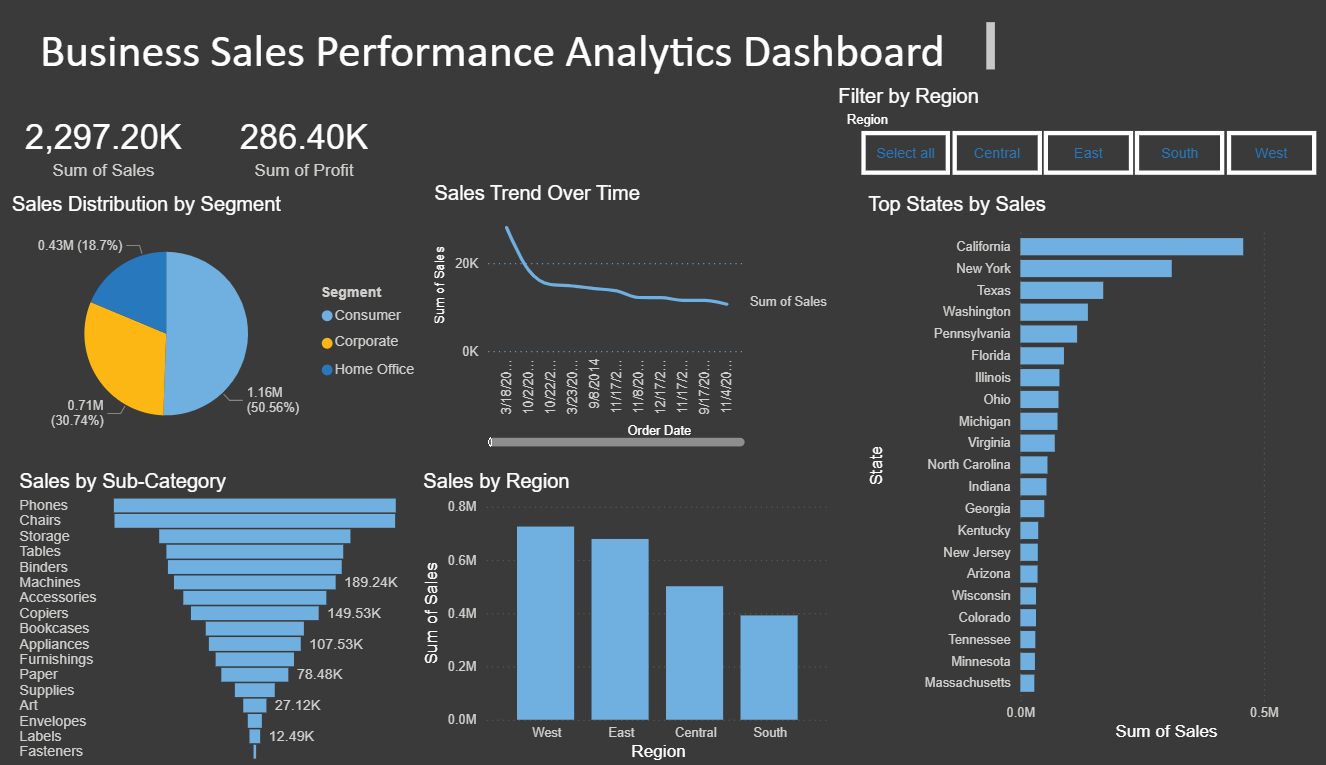

The dashboard page shown, as its layout file describes it:
{"tool":"powerbi","page":{"name":"Page 2","canvas":[1280,720],"ordinal":0},"visuals":[{"type":"shape","box":[10.2,0,1269.8,720],"z":0},{"type":"textbox","title":"Business Sales Performance Analytics Dashboard","box":[27.2,22.1,944.7,52.8],"z":1},{"type":"card","fields":{"Values":["Sum(Sample - Superstore2.Sales)"]},"box":[27.2,90.2,178.7,68.1],"z":3},{"type":"card","fields":{"Values":["Sum(Sample - Superstore2.Profit)"]},"box":[223.7,90.6,172.9,67.2],"z":4},{"type":"lineChart","title":"Sales Trend Over Time","fields":{"Category":["Sample - Superstore2.Order Date"],"Y":["Sum(Sample - Superstore2.Sales)"]},"box":[419.9,174.3,360.9,249.7],"z":5},{"type":"barChart","title":"Top States by Sales","fields":{"Y":["Sum(Sample - Superstore2.Sales)"],"Category":["Sample - Superstore2.State"]},"box":[809.3,174.4,445.4,526.7],"z":6},{"type":"funnel","title":"Sales by Sub-Category","fields":{"Category":["Sample - Superstore2.Sub-Category"],"Y":["Sum(Sample - Superstore2.Sales)"]},"box":[20.4,444.3,376.2,257],"z":7},{"type":"columnChart","title":"Sales by Region","fields":{"Category":["Sample - Superstore2.Region"],"Y":["Sum(Sample - Superstore2.Sales)"]},"box":[422.1,444.2,360.5,257],"z":8},{"type":"slicer","title":"Filter by Region","fields":{"Values":["Sample - Superstore2.Region"]},"box":[781.3,86.8,473.2,78.3],"z":9},{"type":"pieChart","title":"Sales Distribution by Segment","fields":{"Category":["Sample - Superstore2.Segment"],"Y":["Sum(Sample - Superstore2.Sales)"]},"box":[27.4,174.3,378.7,253.9],"z":10}]}

Visuals, with their boxes in screenshot pixels (x1, y1, x2, y2), scaled from the page's 1280x720 canvas onto the 1326x765 screenshot:
shape: 11,0,1325,764
"Business Sales Performance Analytics Dashboard" textbox: 28,23,1007,80
card - Sum(Sample - Superstore2.Sales): 28,96,213,168
card - Sum(Sample - Superstore2.Profit): 232,96,411,168
"Sales Trend Over Time" lineChart: 435,185,809,450
"Top States by Sales" barChart: 838,185,1300,745
"Sales by Sub-Category" funnel: 21,472,411,745
"Sales by Region" columnChart: 437,472,811,745
"Filter by Region" slicer: 809,92,1300,175
"Sales Distribution by Segment" pieChart: 28,185,421,455
